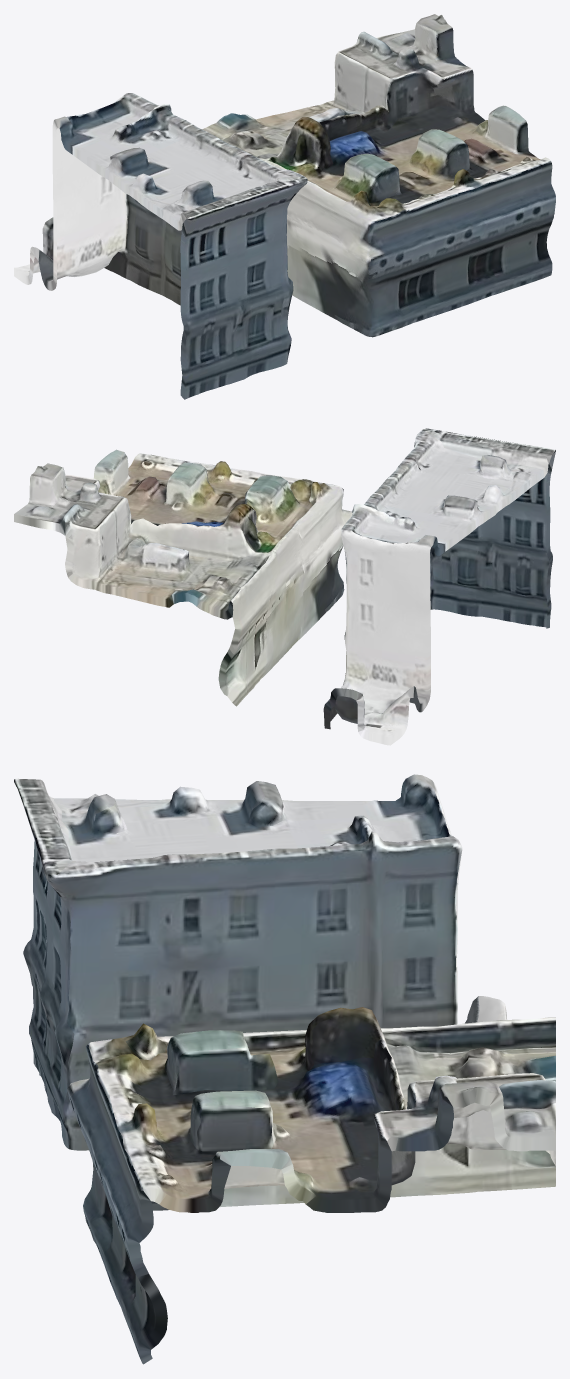
File: z20-167755-405240-h1-yup-uvflip-v3-world.glb
The picture shows the model from 3 angles, top to bottom: view 1: azimuth 30°, elevation 25°; view 2: azimuth 150°, elevation 25°; view 3: azimuth 270°, elevation 25°; orthographic projection. The views are drawn at different scales.
Size of the model in its own units: 30.16 by 13.88 by 22.96.
1 material, 1 textured.
